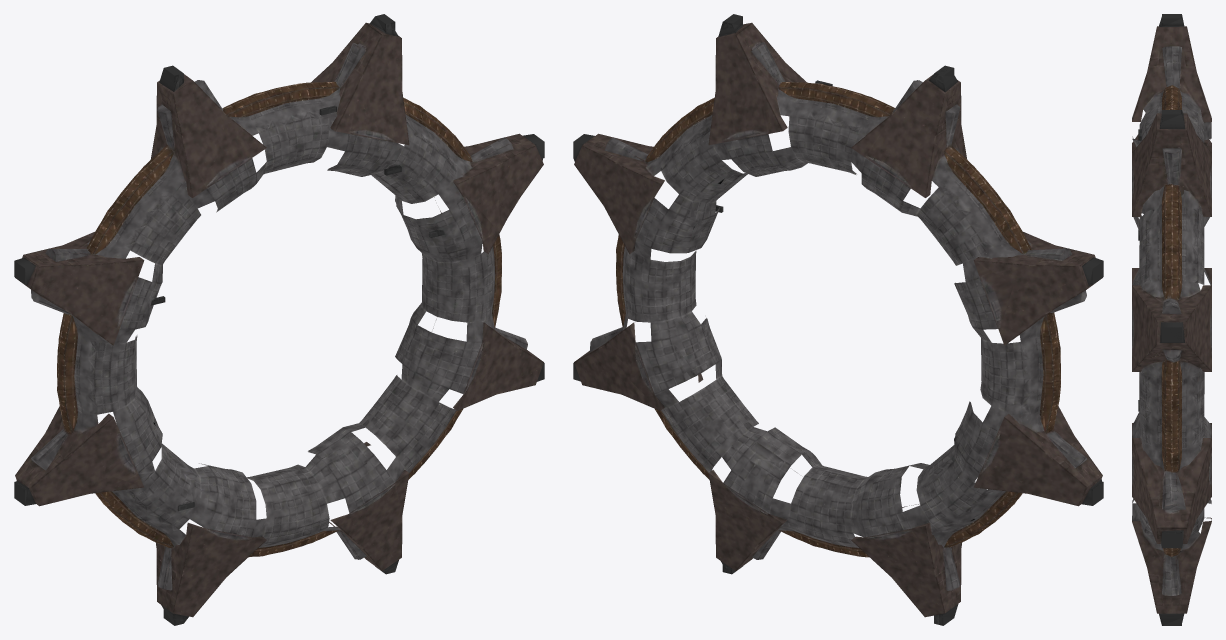
The model's file is sd_prop_gate_kizil.glb.
3 renders of one model, left to right at view 1: azimuth 30°, elevation 25°; view 2: azimuth 150°, elevation 25°; view 3: azimuth 270°, elevation 25°, orthographic. The views are drawn at different scales.
Parts seen in each view (by area): view 1: LOD0_body, LOD1_body; view 2: LOD0_body, LOD1_body; view 3: LOD0_body, LOD1_body.
Boxes of the visible parts, x1=… form: LOD0_body: x1=14, y1=14, x2=544, y2=625; LOD1_body: x1=14, y1=16, x2=544, y2=625; LOD0_body: x1=573, y1=14, x2=1103, y2=625; LOD1_body: x1=573, y1=19, x2=1103, y2=624; LOD0_body: x1=1132, y1=14, x2=1211, y2=625; LOD1_body: x1=1132, y1=14, x2=1211, y2=625.
Bounding box in the file's own units: 0.9882 × 1 × 0.1416.
1 material, 1 textured.
